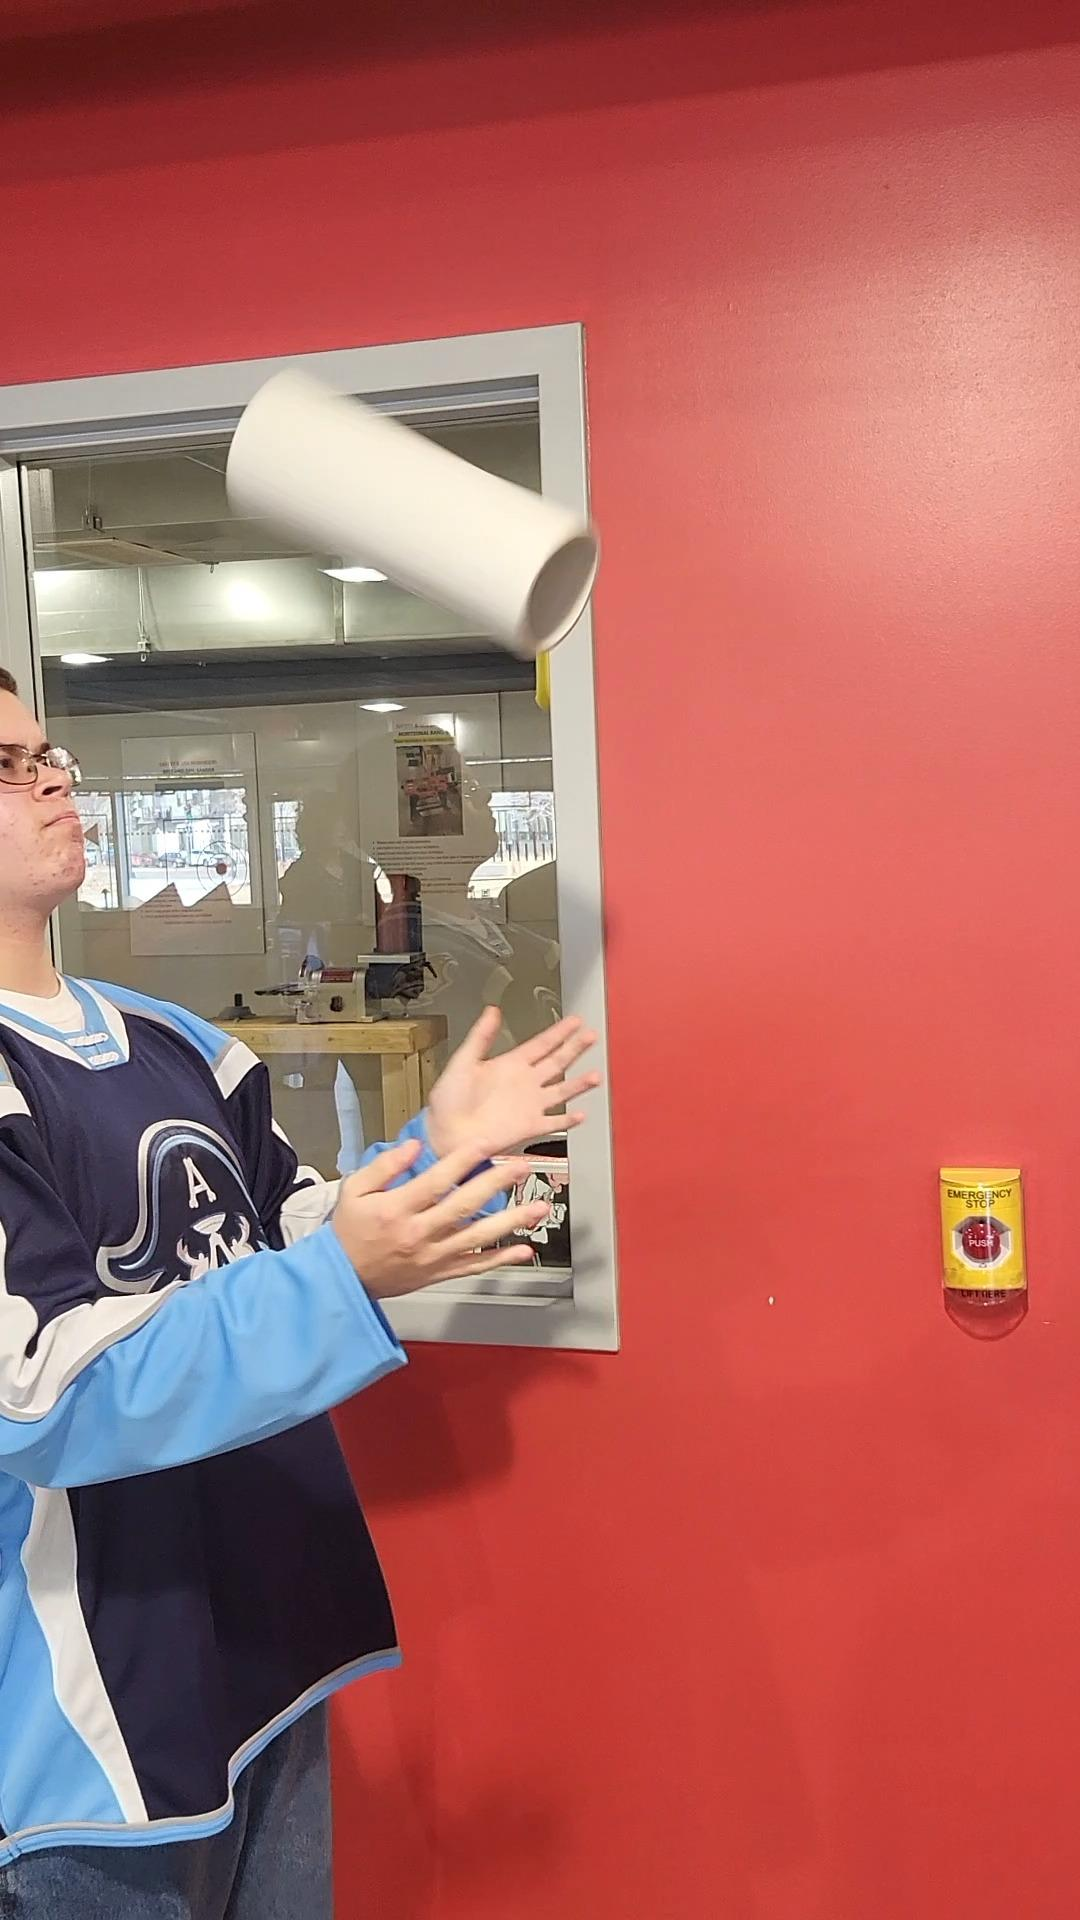coral: (223, 360, 611, 659)
